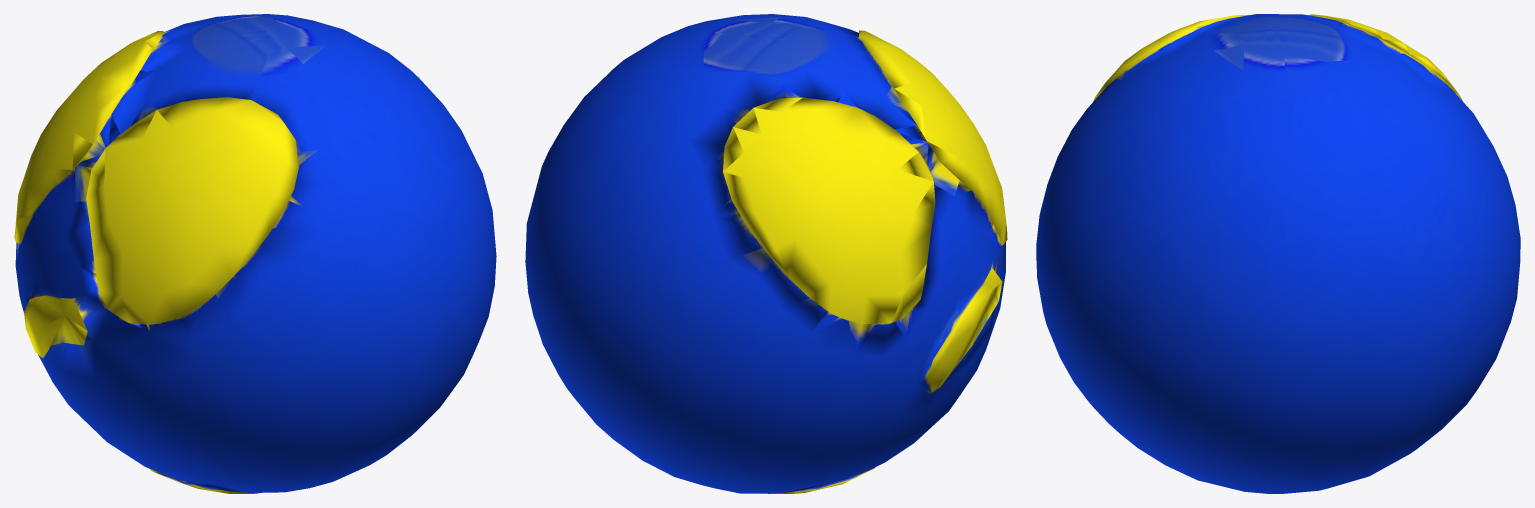
Rendered from ball.fbx.
The picture shows the model from 3 angles, left to right: view 1: azimuth 30°, elevation 25°; view 2: azimuth 150°, elevation 25°; view 3: azimuth 270°, elevation 25°; orthographic projection.
Parts seen in each view (by area): view 1: tripo_node_2d88cd95; view 2: tripo_node_2d88cd95; view 3: tripo_node_2d88cd95.
Part boxes in pixels (bbox=[...]): tripo_node_2d88cd95: bbox=[14, 14, 496, 493]; tripo_node_2d88cd95: bbox=[525, 14, 1007, 493]; tripo_node_2d88cd95: bbox=[1036, 14, 1520, 493].
Bounding box in the file's own units: 0.0798 × 0.08 × 0.0798.
1 material, 1 textured.
